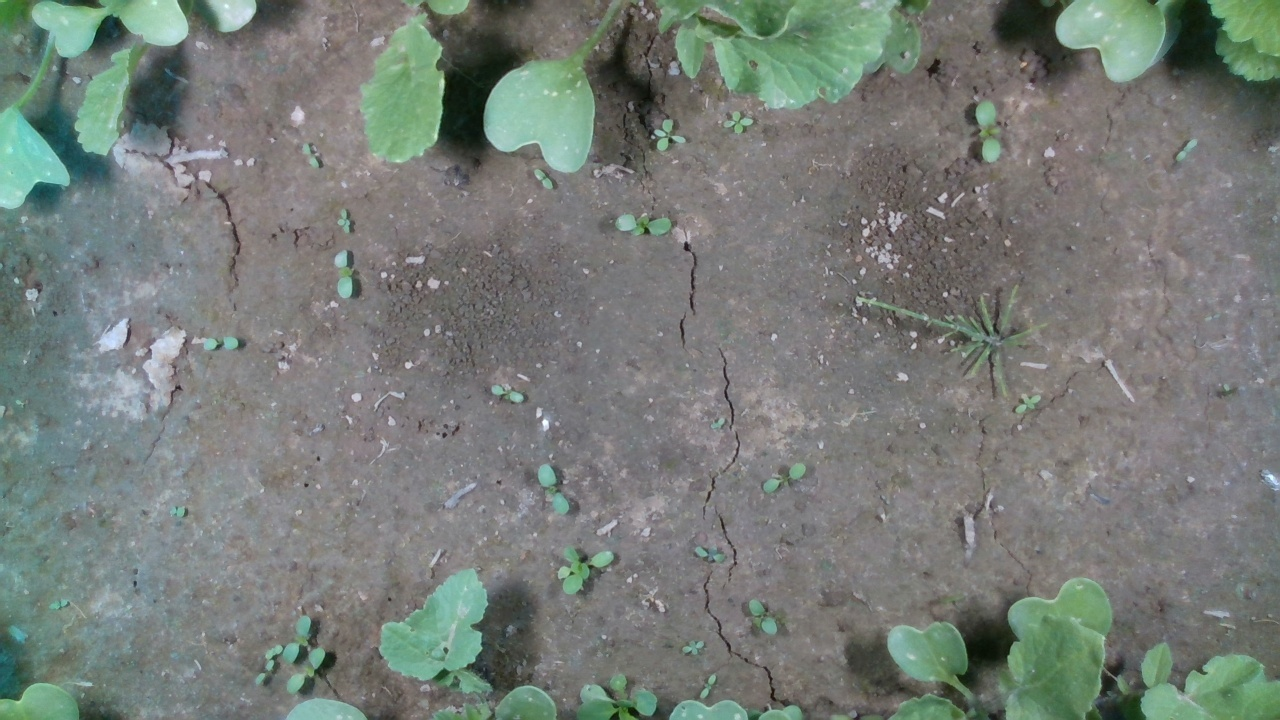weed: (974, 99, 1001, 164), (536, 463, 569, 516), (614, 213, 673, 237), (761, 462, 805, 493), (652, 119, 687, 153), (747, 598, 778, 635), (332, 248, 353, 299), (721, 111, 755, 134), (693, 545, 727, 564), (490, 384, 524, 403), (203, 335, 240, 352), (1175, 138, 1198, 162), (531, 167, 553, 191), (1015, 394, 1041, 414), (699, 673, 717, 700), (301, 143, 319, 170), (681, 639, 705, 655), (337, 208, 351, 234)
